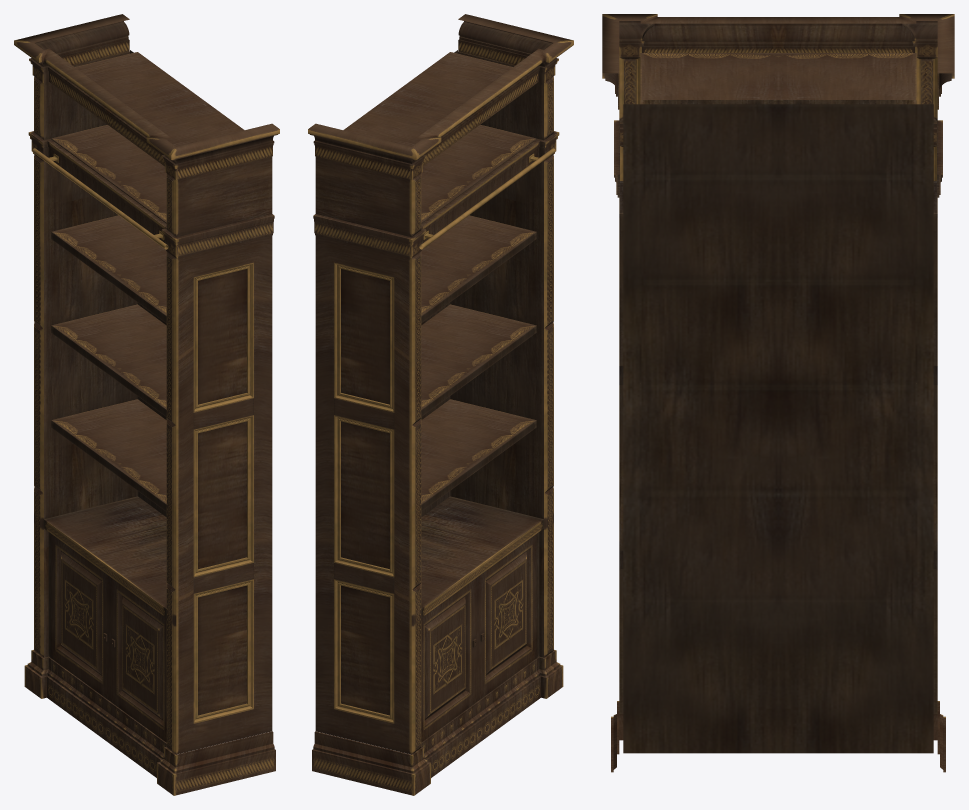
File: SM_Bookshelf_Single.fbx
3 renders of one model, left to right at view 1: azimuth 30°, elevation 25°; view 2: azimuth 150°, elevation 25°; view 3: azimuth 270°, elevation 25°, orthographic. The views are drawn at different scales.
Visible parts, largest first — view 1: SM_Bookshelf_Single_LOD0; view 2: SM_Bookshelf_Single_LOD0; view 3: SM_Bookshelf_Single_LOD0.
Part boxes in pixels (bbox=[...]): SM_Bookshelf_Single_LOD0: bbox=[14, 14, 279, 795]; SM_Bookshelf_Single_LOD0: bbox=[308, 14, 573, 795]; SM_Bookshelf_Single_LOD0: bbox=[602, 14, 954, 772].
Size of the model in its own units: 66.04 by 166 by 375.
1 material, 1 textured.
